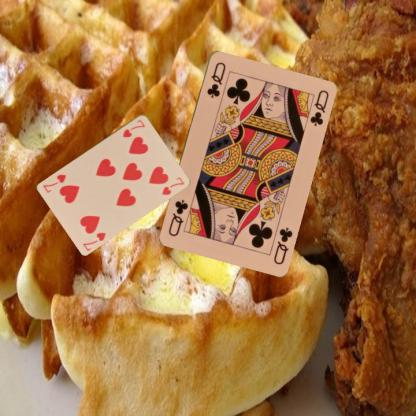7h: (80, 229, 107, 252), (120, 116, 146, 139)
Qc: (271, 224, 293, 266), (204, 59, 227, 99)
